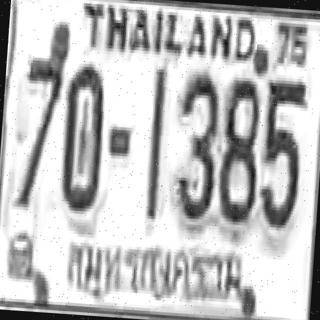N00: (60, 60, 109, 209)
N01: (143, 64, 166, 218)
N03: (171, 69, 221, 222)
N05: (257, 75, 306, 230)
N07: (15, 27, 70, 208)
N08: (215, 75, 263, 224)
P59: (57, 228, 249, 312)
